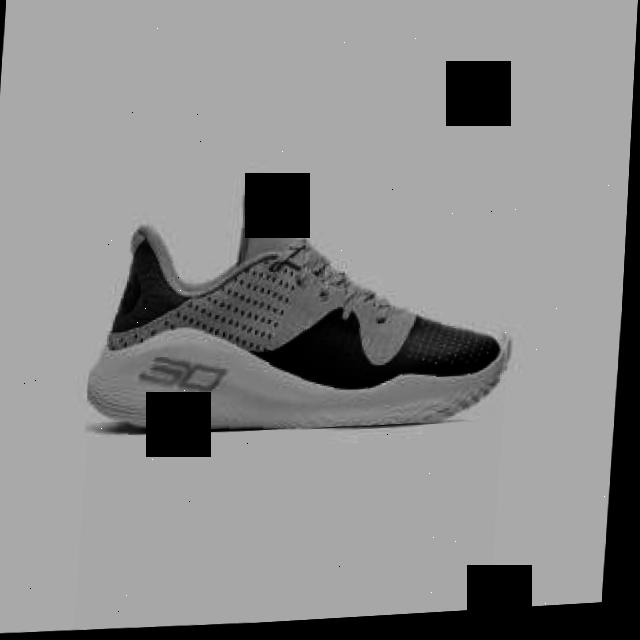shoe: (89, 161, 527, 446)
